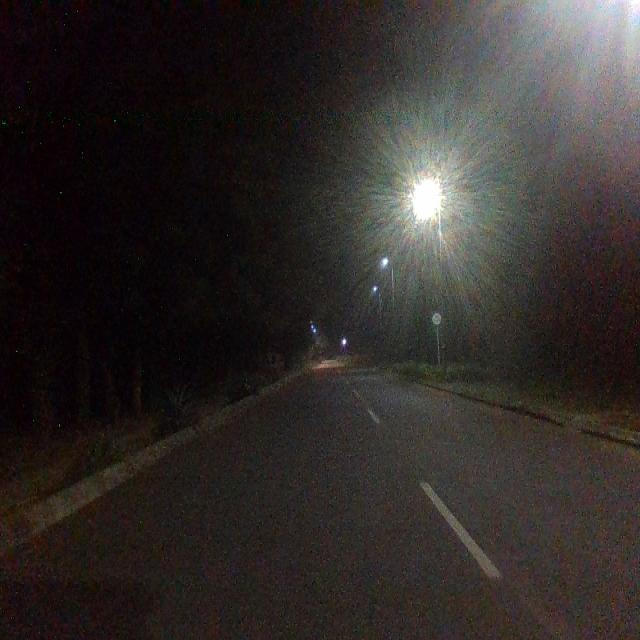lane: (0, 376, 535, 640)
